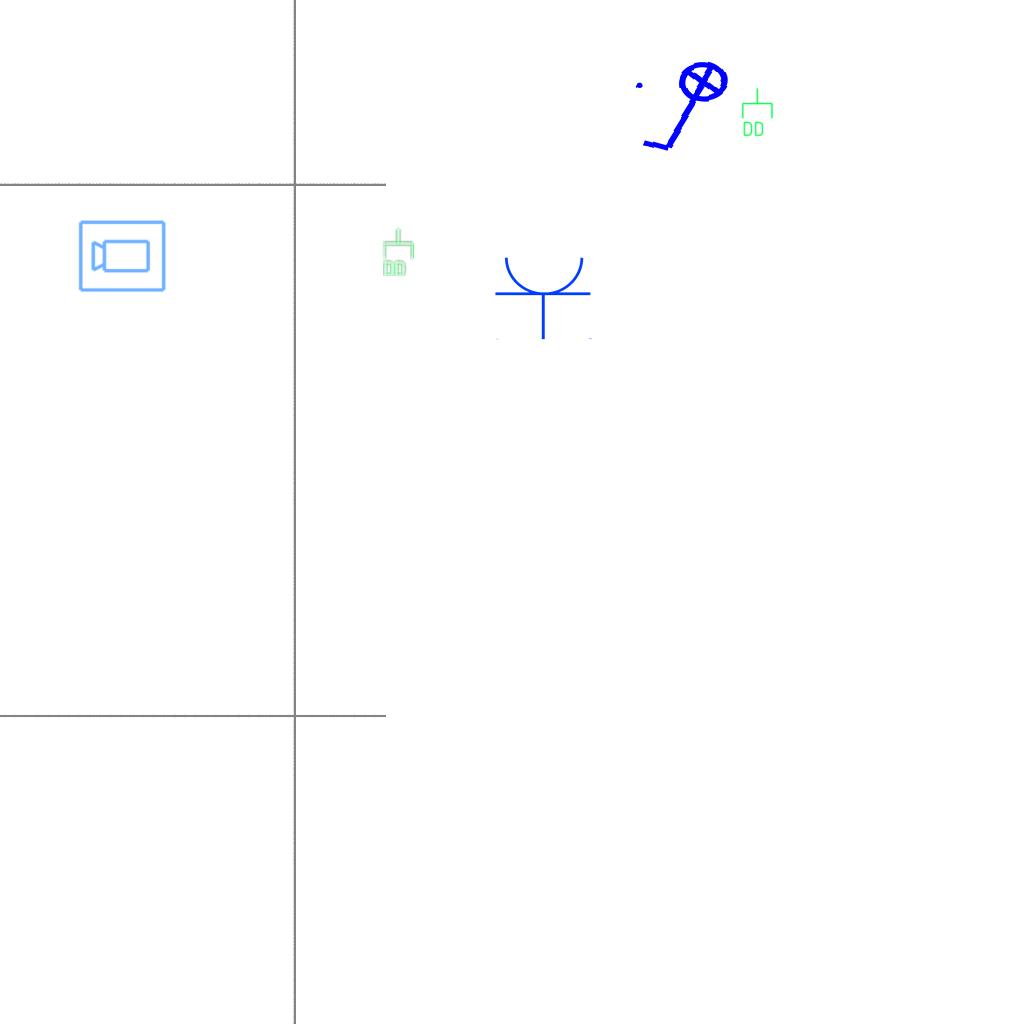Ausschalter_beleuchtet: (628, 57, 748, 161)
Datenanschluss_zweifach: (740, 87, 774, 138), (381, 227, 415, 278)
KFO_Kamera_mit_Festobjektiv: (77, 217, 168, 294)
Schukosteckdose_einfach: (494, 253, 594, 340)
